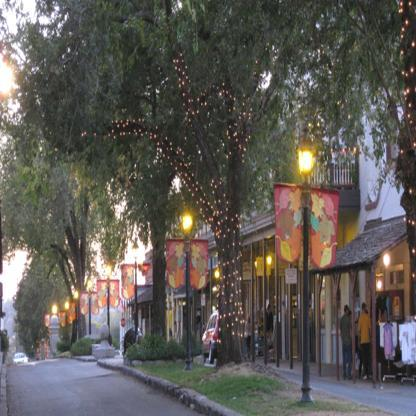light_pole: (298, 125, 316, 405), (181, 214, 194, 368), (105, 266, 112, 347), (87, 280, 93, 338), (74, 291, 79, 343)
